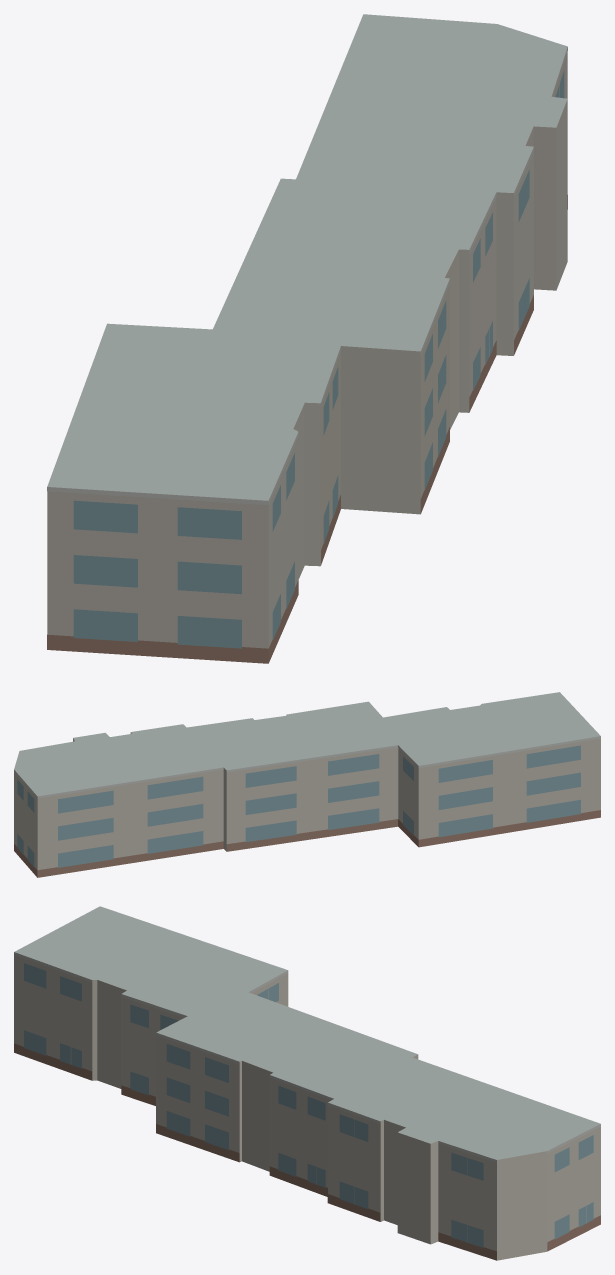
File: survey-upis-32875441.glb
3 views of the same model, one above another, from view 1: azimuth 30°, elevation 25°; view 2: azimuth 150°, elevation 25°; view 3: azimuth 270°, elevation 25° (orthographic). The views are drawn at different scales.
Parts seen in each view (by area): view 1: survey-upis-32875441.tmp; view 2: survey-upis-32875441.tmp; view 3: survey-upis-32875441.tmp.
Boxes of the visible parts, bbox=[...] form: survey-upis-32875441.tmp: bbox=[47, 14, 567, 663]; survey-upis-32875441.tmp: bbox=[14, 692, 600, 877]; survey-upis-32875441.tmp: bbox=[14, 906, 600, 1260].
Size of the model in its own units: 49.47 by 9.15 by 48.34.
